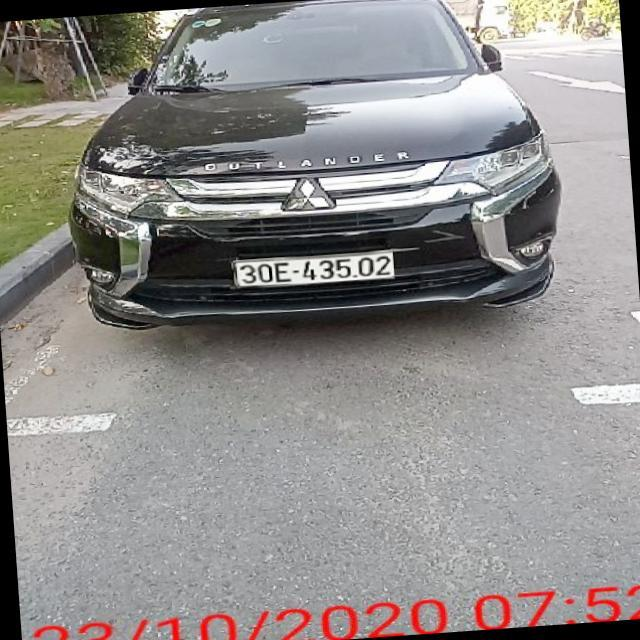car: (74, 0, 575, 337)
plate: (233, 250, 400, 291)
